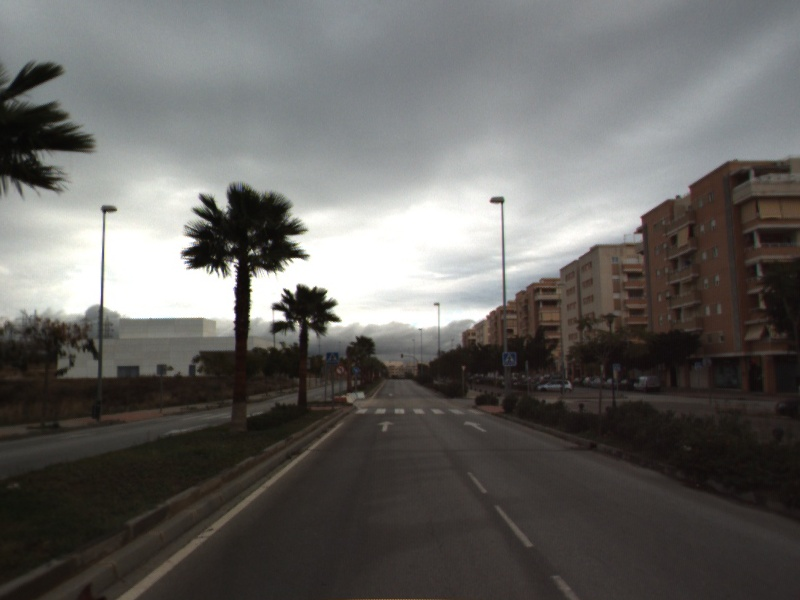STRAIGHT: (462, 419, 489, 434), (375, 419, 397, 433)
